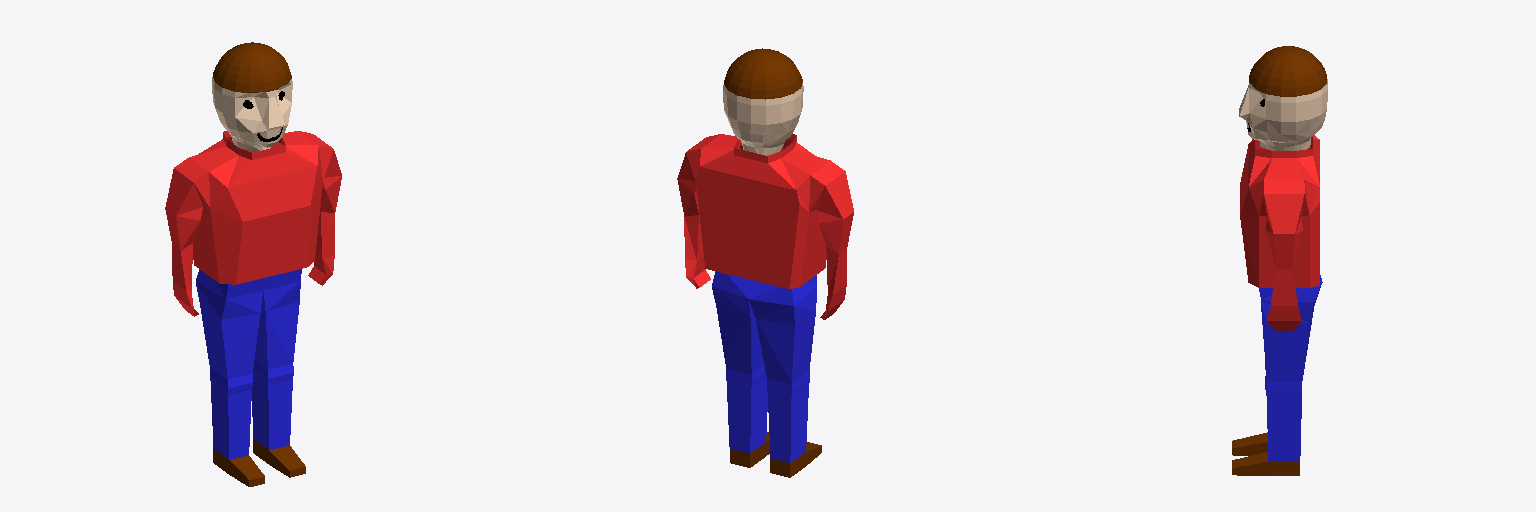
3 views of the same model, side by side, from view 1: azimuth 30°, elevation 25°; view 2: azimuth 150°, elevation 25°; view 3: azimuth 270°, elevation 25° (orthographic).
Size of the model in its own units: 4.75 by 11.28 by 2.37.
1 materials, 1 textured.